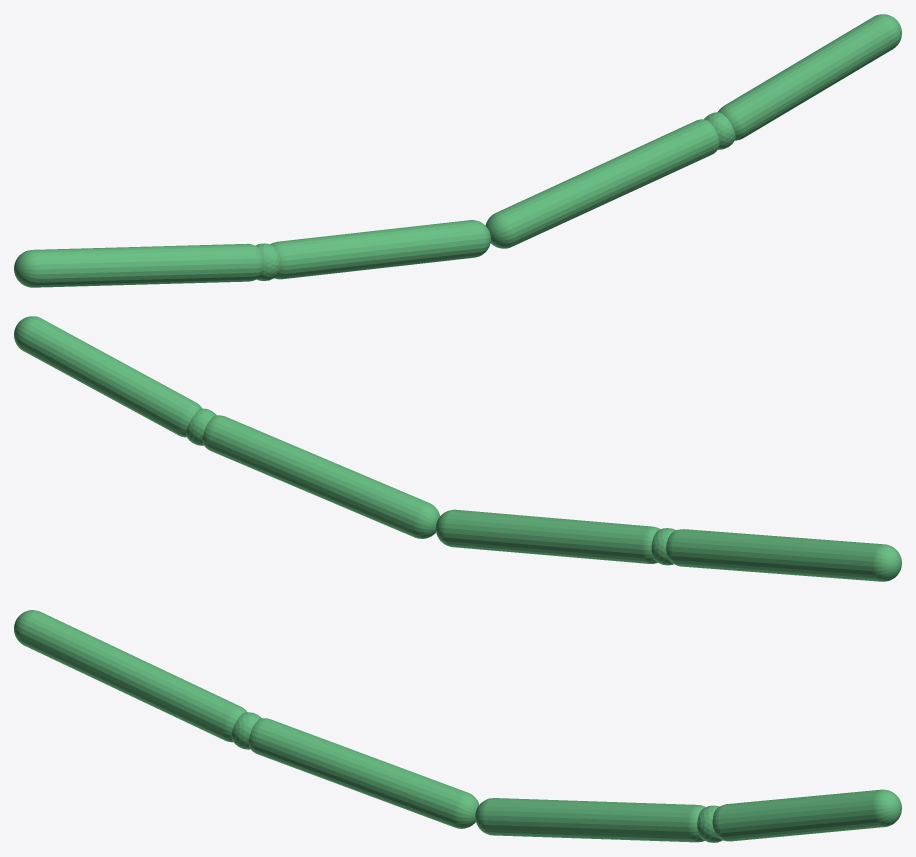
Rendered from dranmar_protected_duct.glb.
The picture shows the model from 3 angles, top to bottom: view 1: azimuth 30°, elevation 25°; view 2: azimuth 150°, elevation 25°; view 3: azimuth 330°, elevation 25°; orthographic projection.
Parts seen in each view (by area): view 1: protected_duct_left, protected_duct_right; view 2: protected_duct_left, protected_duct_right; view 3: protected_duct_left, protected_duct_right.
Boxes of the visible parts, x1,y1,x2,y2 form: protected_duct_left: [14, 220, 490, 287]; protected_duct_right: [485, 14, 901, 248]; protected_duct_left: [435, 509, 901, 581]; protected_duct_right: [14, 316, 440, 538]; protected_duct_left: [14, 610, 479, 828]; protected_duct_right: [475, 789, 901, 842].
Bounding box in the file's own units: 0.1402 × 0.02 × 0.00811.
